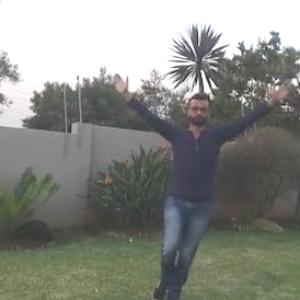takeoff: (112, 71, 294, 299)
